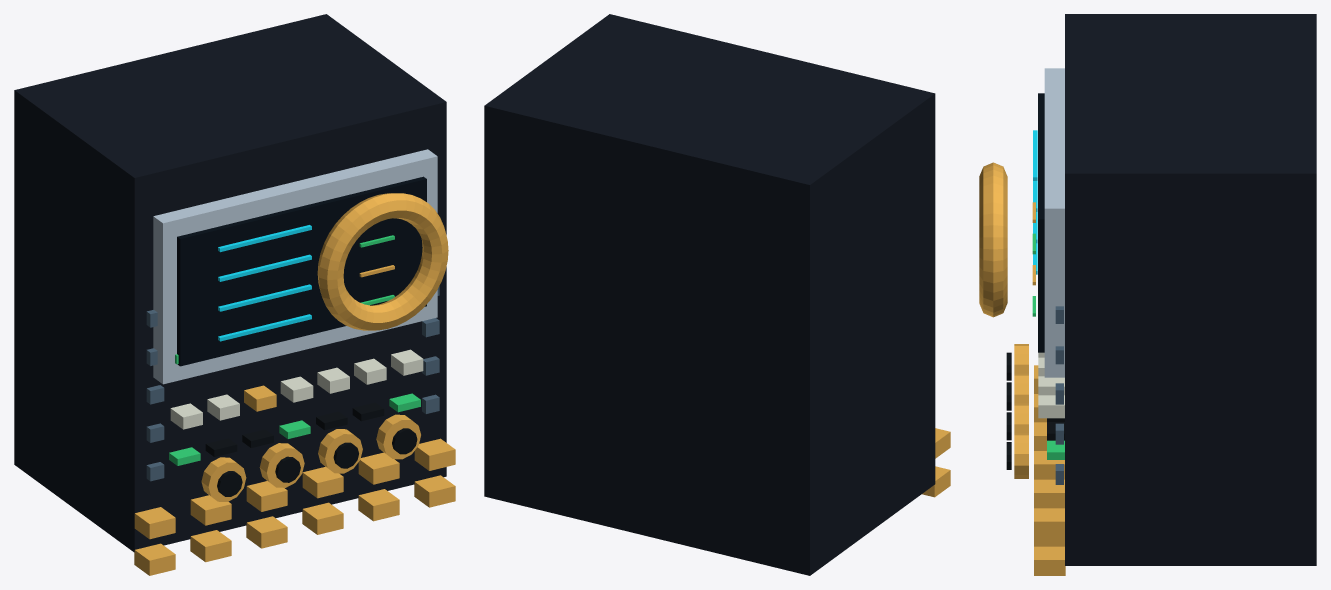
The model's file is 78_L92_TetherForceTransducer.fbx.
The picture shows the model from 3 angles, left to right: view 1: azimuth 30°, elevation 25°; view 2: azimuth 150°, elevation 25°; view 3: azimuth 270°, elevation 25°; orthographic projection. The views are drawn at different scales.
Parts seen in each view (by area): view 1: L92_TetherForceTransducer, L92_TetherForceTransducer_Part_0016, L92_TetherForceTransducer_Part_0014, L92_TetherForceTransducer_Part_0012, L92_TetherForceTransducer_Part_0010; view 2: L92_TetherForceTransducer; view 3: L92_TetherForceTransducer, L92_TetherForceTransducer_Part_0016, L92_TetherForceTransducer_Part_0012, L92_TetherForceTransducer_Part_0014, L92_TetherForceTransducer_Part_0010.
Part boxes in pixels (x1=…): L92_TetherForceTransducer: x1=14, y1=14, x2=455, y2=575; L92_TetherForceTransducer_Part_0016: x1=376, y1=414, x2=420, y2=459; L92_TetherForceTransducer_Part_0014: x1=318, y1=429, x2=362, y2=473; L92_TetherForceTransducer_Part_0012: x1=259, y1=443, x2=304, y2=487; L92_TetherForceTransducer_Part_0010: x1=201, y1=457, x2=246, y2=501; L92_TetherForceTransducer: x1=484, y1=14, x2=950, y2=575; L92_TetherForceTransducer: x1=979, y1=14, x2=1316, y2=575; L92_TetherForceTransducer_Part_0016: x1=1014, y1=433, x2=1028, y2=478; L92_TetherForceTransducer_Part_0012: x1=1014, y1=373, x2=1028, y2=403; L92_TetherForceTransducer_Part_0014: x1=1014, y1=403, x2=1028, y2=433; L92_TetherForceTransducer_Part_0010: x1=1014, y1=344, x2=1028, y2=373.
Size of the model in its own units: 107 by 127 by 95.7.
